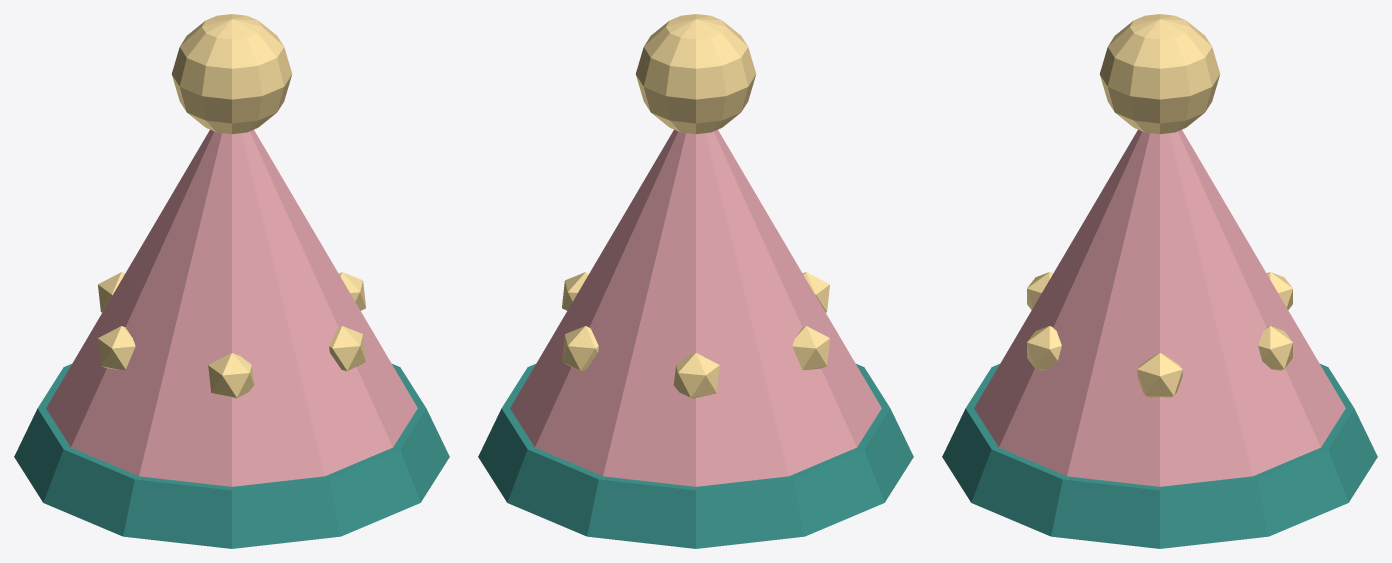
The model's file is party_hat_villager.glb.
The picture shows the model from 3 angles, left to right: view 1: azimuth 30°, elevation 25°; view 2: azimuth 150°, elevation 25°; view 3: azimuth 270°, elevation 25°; orthographic projection.
Visible parts, largest first — view 1: hat, band, pom, dot.004, dot.003, dot.005, dot; view 2: hat, band, pom, dot.002, dot.003, dot.001, dot; view 3: hat, band, pom, dot, dot.001, dot.005.
Boxes of the visible parts, bbox=[...] form: hat: bbox=[46, 129, 417, 486]; band: bbox=[14, 364, 449, 548]; pom: bbox=[171, 14, 292, 133]; dot.004: bbox=[208, 353, 254, 398]; dot.003: bbox=[98, 326, 135, 370]; dot.005: bbox=[329, 326, 365, 371]; dot: bbox=[339, 272, 365, 310]; hat: bbox=[510, 129, 881, 486]; band: bbox=[478, 364, 913, 548]; pom: bbox=[635, 14, 756, 133]; dot.002: bbox=[673, 353, 719, 398]; dot.003: bbox=[792, 326, 829, 370]; dot.001: bbox=[562, 326, 598, 371]; dot: bbox=[562, 272, 588, 310]; hat: bbox=[974, 129, 1345, 486]; band: bbox=[942, 364, 1377, 548]; pom: bbox=[1099, 14, 1220, 133]; dot: bbox=[1137, 353, 1182, 397]; dot.001: bbox=[1258, 326, 1292, 370]; dot.005: bbox=[1027, 326, 1061, 370].
Bounding box in the file's own units: 0.65 × 0.72 × 0.65.
